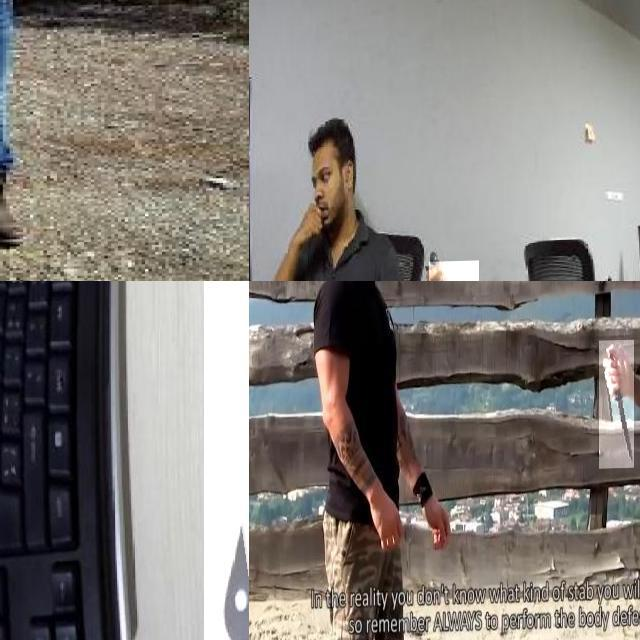-: (599, 342, 634, 472)
gun-knife-thesis - v11 Yolov5 augmented: (0, 0, 249, 48)
